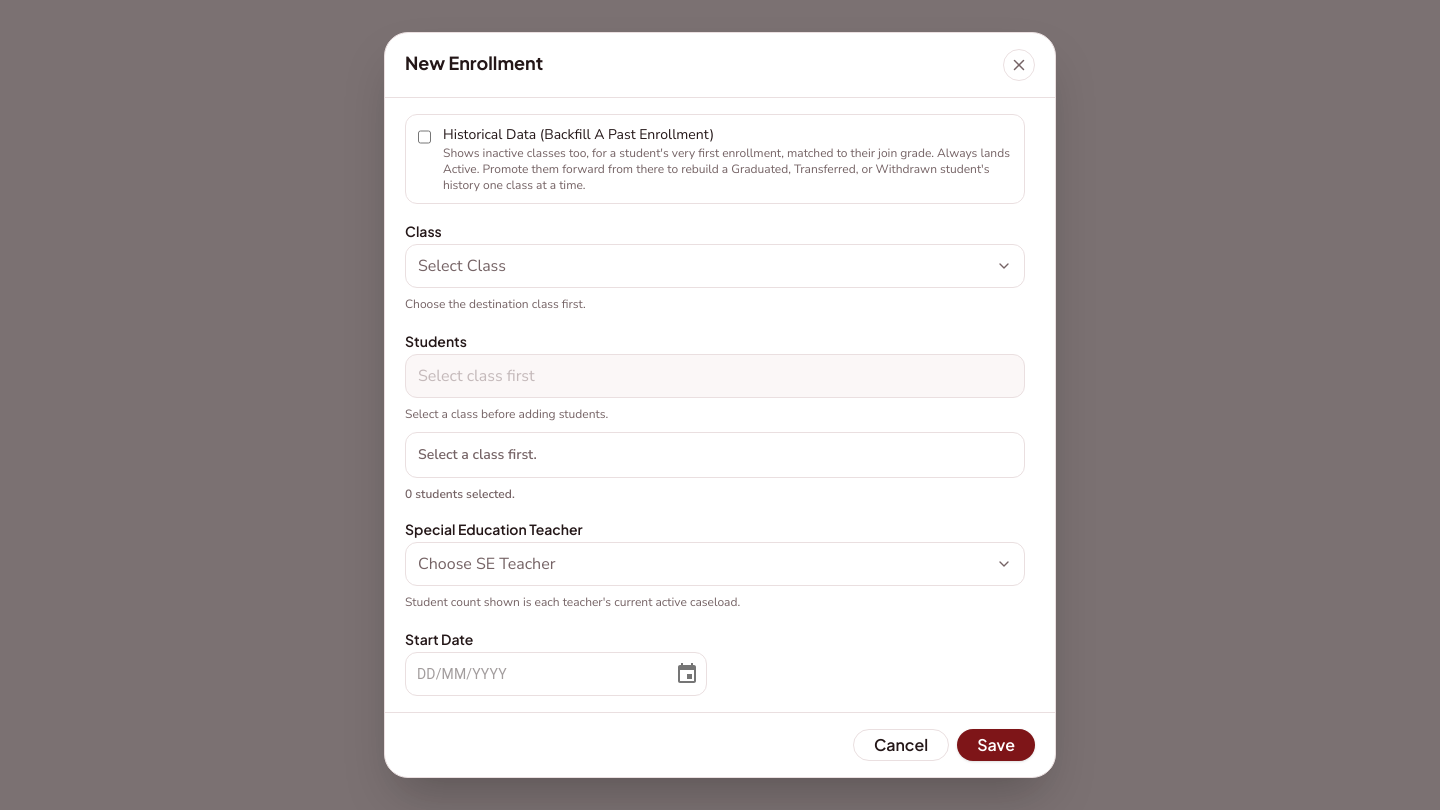
Test: EnrollmentDialog › shows the picked SE Teacher in a field with their caseload and clears it
Click the button "Choose SE Teacher": (487, 564) x1=405 y1=542 x2=1025 y2=586
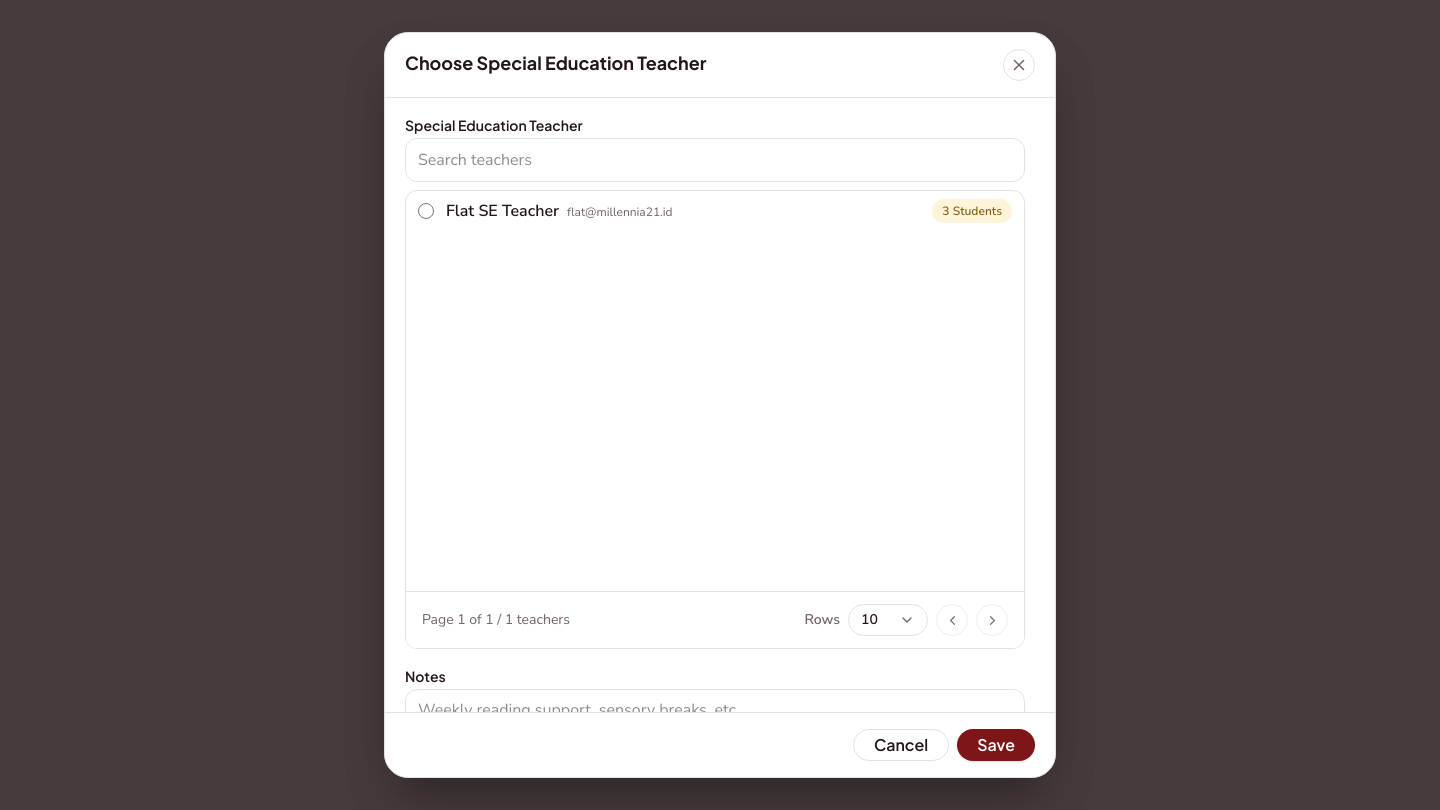
Click the radio button labelled "Flat SE Teacher": (426, 211) x1=418 y1=203 x2=434 y2=219
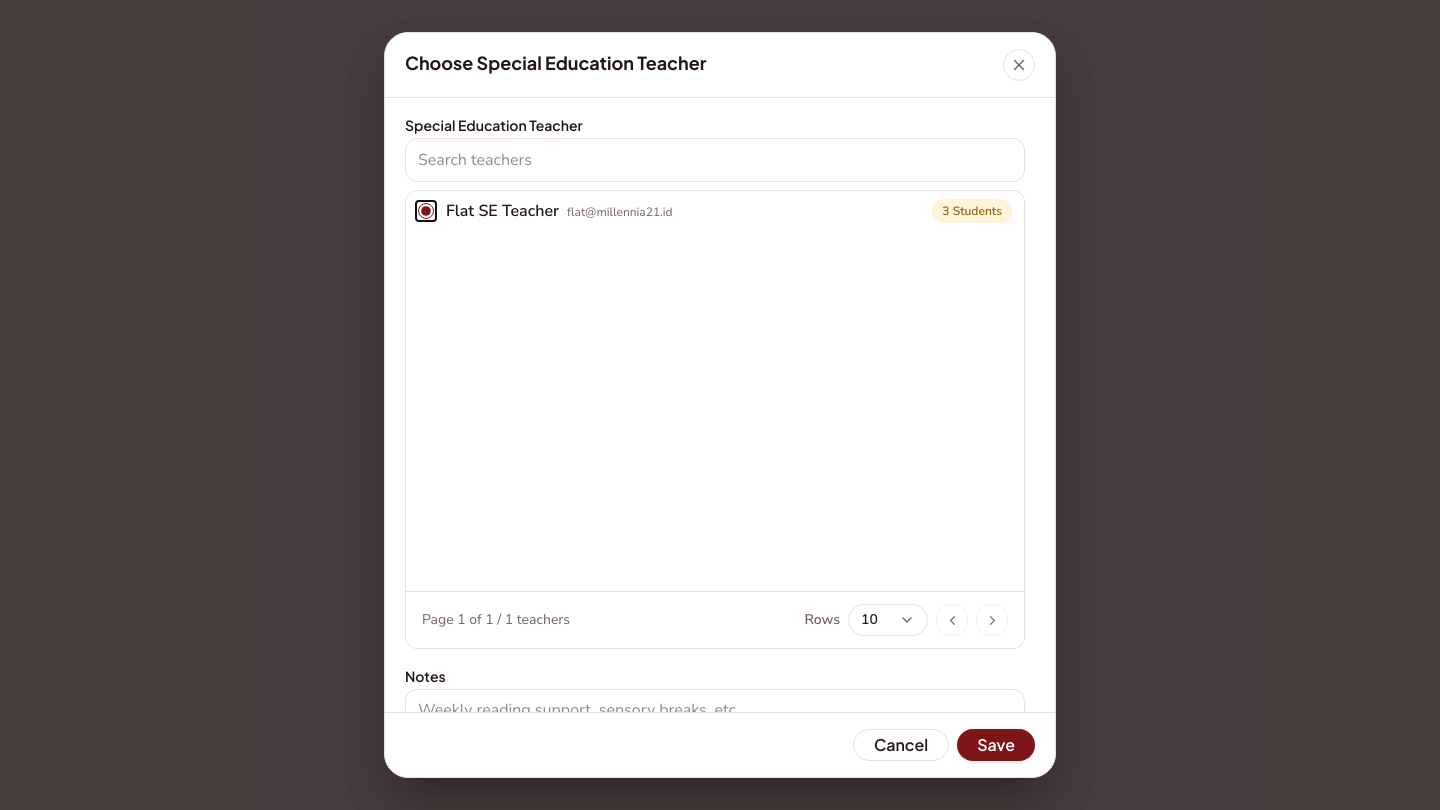
Click the button "Save": (996, 745) x1=957 y1=729 x2=1035 y2=761
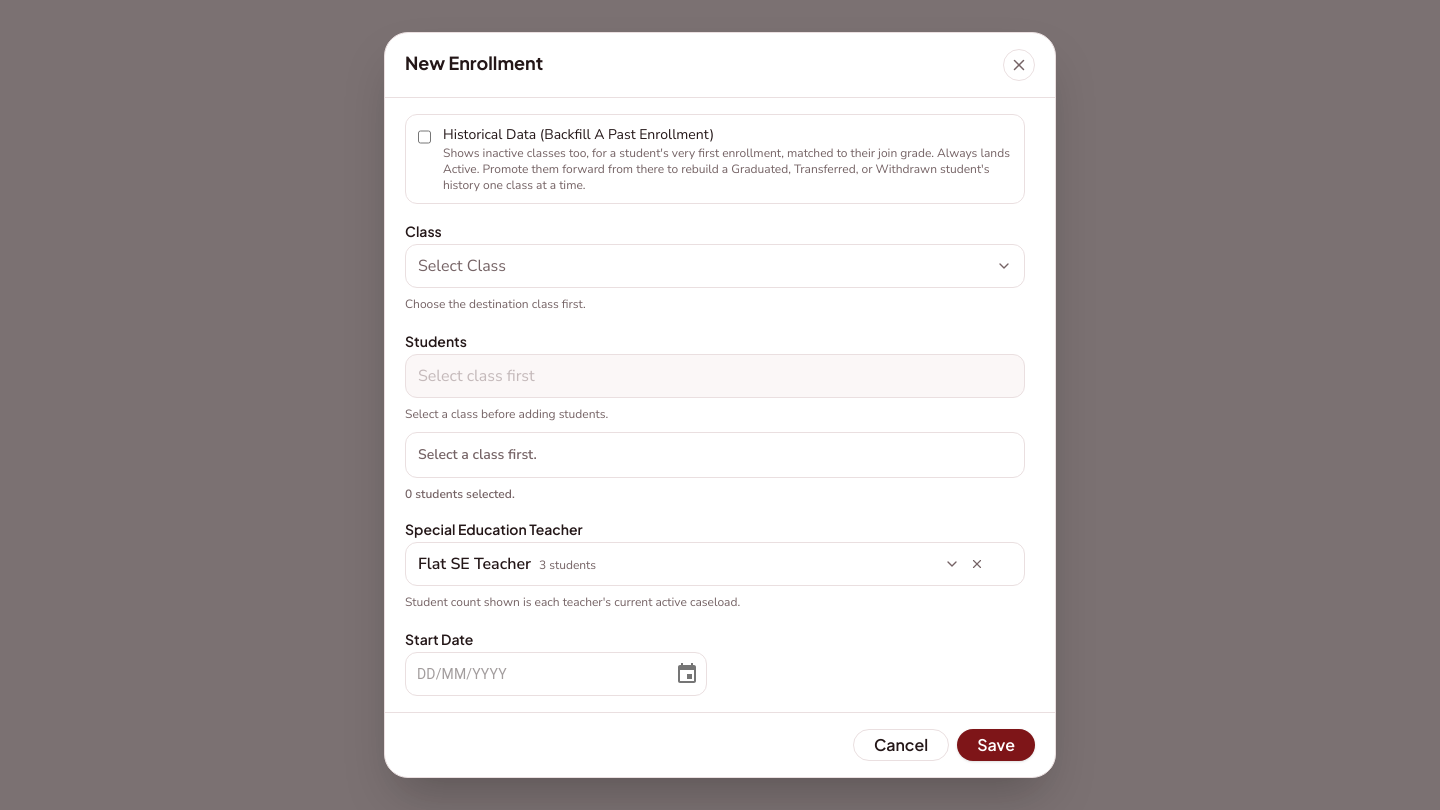
Check: the button "Flat SE Teacher3 students" is shown, box x1=405 y1=542 x2=1025 y2=586
Click the button named "Clear SE Teacher": (977, 564) x1=965 y1=552 x2=989 y2=576
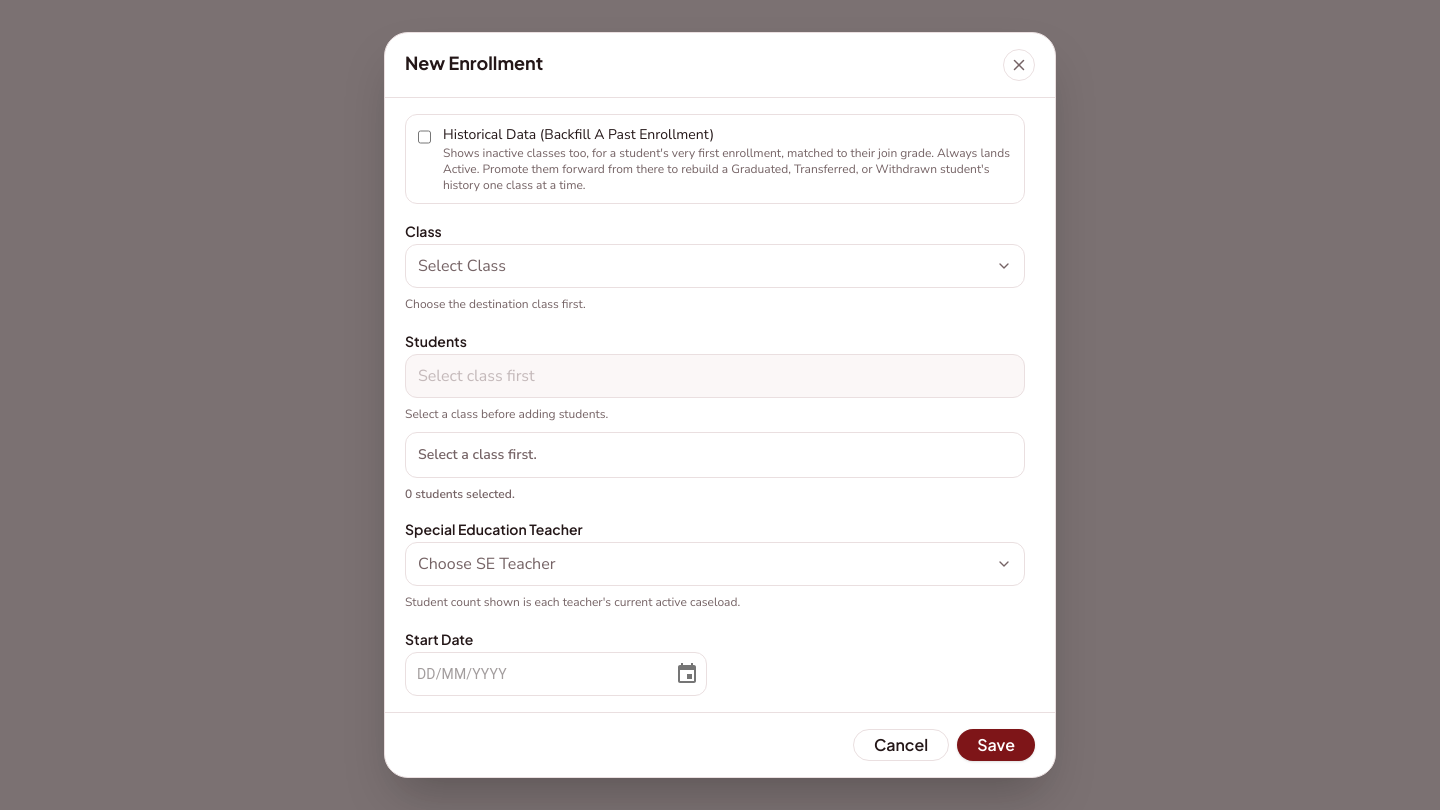
Check: the button "Choose SE Teacher" is shown, box x1=405 y1=542 x2=1025 y2=586
